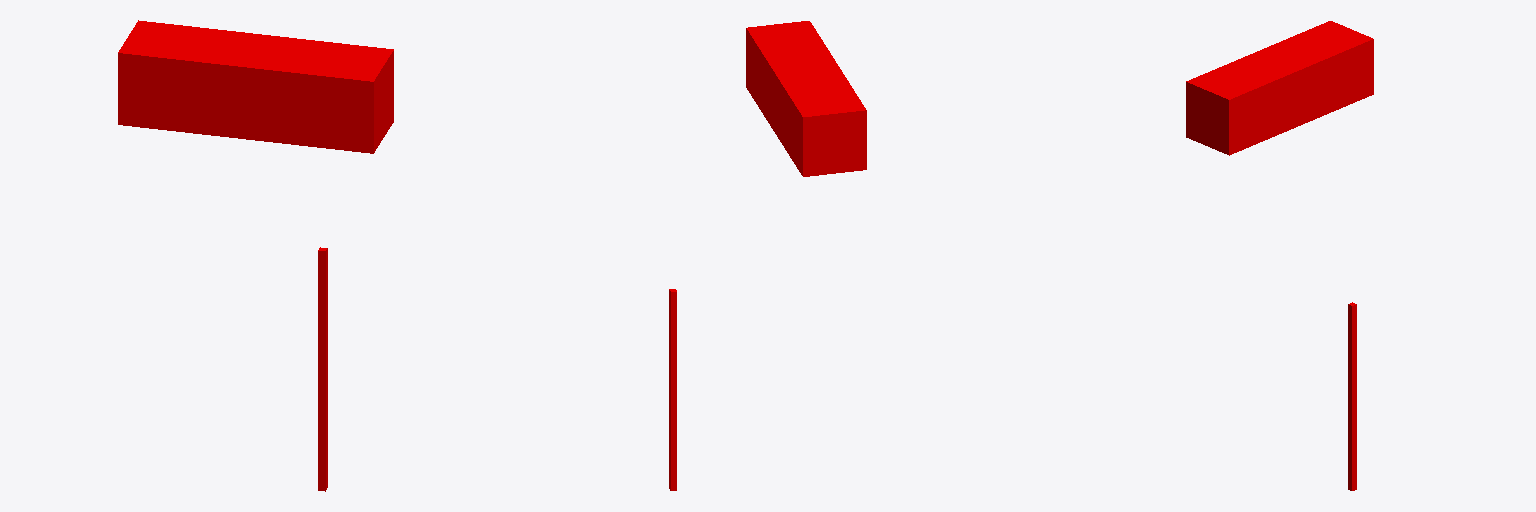
URDF robot description (panda):
<?xml version="1.0" ?>
<!-- =================================================================================== -->
<!-- |    This document was autogenerated by xacro from panda_arm_hand.urdf.xacro      | -->
<!-- |    EDITING THIS FILE BY HAND IS NOT RECOMMENDED                                 | -->
<!-- =================================================================================== -->
<robot name="panda"
  xmlns:xacro="http://www.ros.org/wiki/xacro">
  <link name="panda_link0">
    <inertial>
      <origin rpy="0 0 0" xyz="0 0 0.05"/>
      <mass value="2.9"/>
      <inertia ixx="0.1" ixy="0" ixz="0" iyy="0.1" iyz="0" izz="0.1"/>
    </inertial>
    <visual>
      <geometry>
        <mesh filename="package://meshes/collision/link0.obj"/>
      </geometry>
      <material name="panda_white">
        <color rgba="1. 1. 1. 1."/>
      </material>
    </visual>
    <collision>
      <geometry>
        <mesh filename="package://meshes/collision/link0.obj"/>
      </geometry>
      <material name="panda_white"/>
    </collision>
  </link>
  <link name="panda_link1">
    <inertial>
      <origin rpy="0 0 0" xyz="0 -0.04 -0.05"/>
      <mass value="2.7"/>
      <inertia ixx="0.1" ixy="0" ixz="0" iyy="0.1" iyz="0" izz="0.1"/>
    </inertial>
    <visual>
      <geometry>
        <mesh filename="package://meshes/visual/link1.obj"/>
      </geometry>
      <material name="panda_white"/>
    </visual>
    <collision>
      <geometry>
        <mesh filename="package://meshes/collision/link1.obj"/>
      </geometry>
      <material name="panda_white"/>
    </collision>
  </link>
  <joint name="panda_joint1" type="revolute">
    <safety_controller k_position="100.0" k_velocity="40.0" soft_lower_limit="-2.8973" soft_upper_limit="2.8973"/>
    <origin rpy="0 0 0" xyz="0 0 0.333"/>
    <parent link="panda_link0"/>
    <child link="panda_link1"/>
    <axis xyz="0 0 1"/>
    <limit effort="87" lower="-2.9671" upper="2.9671" velocity="2.1750"/>
  </joint>
  <link name="panda_link2">
    <inertial>
      <origin rpy="0 0 0" xyz="0 -0.04 0.06"/>
      <mass value="2.73"/>
      <inertia ixx="0.1" ixy="0" ixz="0" iyy="0.1" iyz="0" izz="0.1"/>
    </inertial>
    <visual>
      <geometry>
        <mesh filename="package://meshes/visual/link2.obj"/>
      </geometry>
      <material name="panda_white"/>
    </visual>
    <collision>
      <geometry>
        <mesh filename="package://meshes/collision/link2.obj"/>
      </geometry>
      <material name="panda_white"/>
    </collision>
  </link>
  <joint name="panda_joint2" type="revolute">
    <safety_controller k_position="100.0" k_velocity="40.0" soft_lower_limit="-1.7628" soft_upper_limit="1.7628"/>
    <origin rpy="-1.57079632679 0 0" xyz="0 0 0"/>
    <parent link="panda_link1"/>
    <child link="panda_link2"/>
    <axis xyz="0 0 1"/>
    <limit effort="87" lower="-1.8326" upper="1.8326" velocity="2.1750"/>
  </joint>
  <link name="panda_link3">
    <inertial>
      <origin rpy="0 0 0" xyz="0.01 0.01 -0.05"/>
      <mass value="2.04"/>
      <inertia ixx="0.1" ixy="0" ixz="0" iyy="0.1" iyz="0" izz="0.1"/>
    </inertial>
    <visual>
      <geometry>
        <mesh filename="package://meshes/visual/link3.obj"/>
      </geometry>
      <material name="panda_red">
        <color rgba="1. 1. 1. 1."/>
      </material>
    </visual>
    <collision>
      <geometry>
        <mesh filename="package://meshes/collision/link3.obj"/>
      </geometry>
    </collision>
  </link>
  <joint name="panda_joint3" type="revolute">
    <safety_controller k_position="100.0" k_velocity="40.0" soft_lower_limit="-2.8973" soft_upper_limit="2.8973"/>
    <origin rpy="1.57079632679 0 0" xyz="0 -0.316 0"/>
    <parent link="panda_link2"/>
    <child link="panda_link3"/>
    <axis xyz="0 0 1"/>
    <limit effort="87" lower="-2.9671" upper="2.9671" velocity="2.1750"/>
  </joint>
  <link name="panda_link4">
    <inertial>
      <origin rpy="0 0 0" xyz="-0.03 0.03 0.02"/>
      <mass value="2.08"/>
      <inertia ixx="0.1" ixy="0" ixz="0" iyy="0.1" iyz="0" izz="0.1"/>
    </inertial>
    <visual>
      <geometry>
        <mesh filename="package://meshes/visual/link4.obj"/>
      </geometry>
      <material name="panda_white"/>
    </visual>
    <collision>
      <geometry>
        <mesh filename="package://meshes/collision/link4.obj"/>
      </geometry>
      <material name="panda_white"/>
    </collision>
  </link>
  <joint name="panda_joint4" type="revolute">
    <safety_controller k_position="100.0" k_velocity="40.0" soft_lower_limit="-3.0718" soft_upper_limit="-0.0698"/>
    <origin rpy="1.57079632679 0 0" xyz="0.0825 0 0"/>
    <parent link="panda_link3"/>
    <child link="panda_link4"/>
    <axis xyz="0 0 1"/>
    <limit effort="87" lower="-3.1416" upper="0.0" velocity="2.1750"/>
  </joint>
  <link name="panda_link5">
    <inertial>
      <origin rpy="0 0 0" xyz="0 0.04 -0.12"/>
      <mass value="3"/>
      <inertia ixx="0.1" ixy="0" ixz="0" iyy="0.1" iyz="0" izz="0.1"/>
    </inertial>
    <visual>
      <geometry>
        <mesh filename="package://meshes/visual/link5.obj"/>
      </geometry>
      <material name="panda_white"/>
    </visual>
    <collision>
      <geometry>
        <mesh filename="package://meshes/collision/link5.obj"/>
      </geometry>
      <material name="panda_white"/>
    </collision>
  </link>
  <joint name="panda_joint5" type="revolute">
    <safety_controller k_position="100.0" k_velocity="40.0" soft_lower_limit="-2.8973" soft_upper_limit="2.8973"/>
    <origin rpy="-1.57079632679 0 0" xyz="-0.0825 0.384 0"/>
    <parent link="panda_link4"/>
    <child link="panda_link5"/>
    <axis xyz="0 0 1"/>
    <limit effort="12" lower="-2.9671" upper="2.9671" velocity="2.6100"/>
  </joint>
  <link name="panda_link6">
    <inertial>
      <origin rpy="0 0 0" xyz="0.04 0 0"/>
      <mass value="1.3"/>
      <inertia ixx="0.1" ixy="0" ixz="0" iyy="0.1" iyz="0" izz="0.1"/>
    </inertial>
    <visual>
      <geometry>
        <mesh filename="package://meshes/visual/link6.obj"/>
      </geometry>
      <material name="panda_white"/>
    </visual>
    <collision>
      <geometry>
        <mesh filename="package://meshes/collision/link6.obj"/>
      </geometry>
      <material name="panda_white"/>
    </collision>
  </link>
  <joint name="panda_joint6" type="revolute">
    <safety_controller k_position="100.0" k_velocity="40.0" soft_lower_limit="-0.0175" soft_upper_limit="3.7525"/>
    <origin rpy="1.57079632679 0 0" xyz="0 0 0"/>
    <parent link="panda_link5"/>
    <child link="panda_link6"/>
    <axis xyz="0 0 1"/>
    <limit effort="12" lower="-0.0873" upper="3.8223" velocity="2.6100"/>
  </joint>
  <link name="panda_link7">
    <inertial>
      <origin rpy="0 0 0" xyz="0 0 0.08"/>
      <mass value=".2"/>
      <inertia ixx="0.1" ixy="0" ixz="0" iyy="0.1" iyz="0" izz="0.1"/>
    </inertial>
    <visual>
      <geometry>
        <mesh filename="package://meshes/collision/link7.obj"/>
      </geometry>
      <material name="panda_white"/>
    </visual>
    <collision>
      <geometry>
        <mesh filename="package://meshes/collision/link7.obj"/>
      </geometry>
      <material name="panda_white"/>
    </collision>
  </link>
  <joint name="panda_joint7" type="revolute">
    <safety_controller k_position="100.0" k_velocity="40.0" soft_lower_limit="-2.8973" soft_upper_limit="2.8973"/>
    <origin rpy="1.57079632679 0 0" xyz="0.088 0 0"/>
    <parent link="panda_link6"/>
    <child link="panda_link7"/>
    <axis xyz="0 0 1"/>
    <limit effort="12" lower="-2.9671" upper="2.9671" velocity="2.6100"/>
  </joint>
  <link name="panda_link8">
    <inertial>
      <origin rpy="0 0 0" xyz="0 0 0"/>
      <mass value="0.0"/>
      <inertia ixx="0.1" ixy="0" ixz="0" iyy="0.1" iyz="0" izz="0.1"/>
    </inertial>
  </link>
  <joint name="panda_joint8" type="fixed">
    <origin rpy="0 0 0" xyz="0 0 0.107"/>
    <parent link="panda_link7"/>
    <child link="panda_link8"/>
    <axis xyz="0 0 0"/>
  </joint>
  <joint name="panda_hand_joint" type="fixed">
    <parent link="panda_link8"/>
    <child link="panda_hand"/>
    <origin rpy="0 0 -0.785398163397" xyz="0 0 0"/>
  </joint>
  <link name="panda_hand">
    <inertial>
      <origin rpy="0 0 0" xyz="0 0 0.04"/>
      <mass value=".81"/>
      <inertia ixx="0.1" ixy="0" ixz="0" iyy="0.1" iyz="0" izz="0.1"/>
    </inertial>
    <visual>
      <geometry>
        <mesh filename="package://meshes/visual/hand.obj"/>
      </geometry>
      <material name="panda_white"/>
    </visual>
    <collision>
      <geometry>
        <mesh filename="package://meshes/collision/hand.obj"/>
      </geometry>
      <material name="panda_white"/>
    </collision>
  </link>

  <link name="cam">
    <contact>
      <friction_anchor/>
      <stiffness value="30000.0"/>
      <damping value="1000.0"/>
      <spinning_friction value="0.1"/>
      <lateral_friction value="1.0"/>
    </contact>
    <inertial>
      <origin rpy="0 0 0" xyz="0 0 0"/>
      <mass value="0.1"/>
      <inertia ixx="0.1" ixy="0" ixz="0" iyy="0.1" iyz="0" izz="0.1"/>
    </inertial>
    <visual>
      <origin rpy="0 0 0" xyz="-0.06 0 -0.035"/>
      <geometry>
        <box size="0.03 0.1 0.03"/>
      </geometry>
      <material name="stick_red">
        <color rgba="1 0.0 0.0 1"/>
      </material>
    </visual>
    <collision>
      <origin rpy="0 0 0" xyz="-0.06 0 -0.035"/>
      <geometry>
        <box size="0.03 0.1 0.03"/>
      </geometry>
    </collision>
  </link>
  <joint name="cam_joint" type="fixed">
    <parent link="panda_hand"/>
    <child link="cam"/>
    <origin rpy="0 0 0" xyz="0 -0.005 0.05"/>
  </joint>

  <link name="panda_leftfinger">
    <contact>
      <friction_anchor/>
      <stiffness value="30000.0"/>
      <damping value="1000.0"/>
      <spinning_friction value="0.1"/>
      <lateral_friction value="1.0"/>
    </contact>
    <inertial>
      <origin rpy="0 0 0" xyz="0 0.01 0.02"/>
      <mass value="0.1"/>
      <inertia ixx="0.1" ixy="0" ixz="0" iyy="0.1" iyz="0" izz="0.1"/>
    </inertial>
    <visual>
      <geometry>
        <mesh filename="package://meshes/visual/finger.obj"/>
      </geometry>
      <material name="panda_white"/>
    </visual>
    <collision>
      <geometry>
        <mesh filename="package://meshes/collision/finger.obj"/>
      </geometry>
      <material name="panda_white"/>
    </collision>
  </link>
  <link name="panda_rightfinger">
    <contact>
      <friction_anchor/>
      <stiffness value="30000.0"/>
      <damping value="1000.0"/>
      <spinning_friction value="0.1"/>
      <lateral_friction value="1.0"/>
    </contact>
    <inertial>
      <origin rpy="0 0 0" xyz="0 -0.01 0.02"/>
      <mass value="0.1"/>
      <inertia ixx="0.1" ixy="0" ixz="0" iyy="0.1" iyz="0" izz="0.1"/>
    </inertial>
    <visual>
      <origin rpy="0 0 3.14159265359" xyz="0 0 0"/>
      <geometry>
        <mesh filename="package://meshes/visual/finger.obj"/>
      </geometry>
      <material name="panda_white"/>
    </visual>
    <collision>
      <origin rpy="0 0 3.14159265359" xyz="0 0 0"/>
      <geometry>
        <mesh filename="package://meshes/collision/finger.obj"/>
      </geometry>
      <material name="panda_white"/>
    </collision>
  </link>

  <link name="stick">
    <contact>
      <friction_anchor/>
      <stiffness value="30000.0"/>
      <damping value="1000.0"/>
      <spinning_friction value="0.1"/>
      <lateral_friction value="1.0"/>
    </contact>
    <inertial>
      <origin rpy="0 0 0" xyz="0 0 0"/>
      <mass value="0.1"/>
      <inertia ixx="0.1" ixy="0" ixz="0" iyy="0.1" iyz="0" izz="0.1"/>
    </inertial>
    <visual>
      <origin rpy="0 0 0" xyz="0 0 0.05"/>
      <geometry>
        <box size="0.003 0.003 0.10"/>
      </geometry>
      <material name="stick_red">
        <color rgba="1 0.0 0.0 1"/>
      </material>
    </visual>
    <collision>
      <origin rpy="0 0 0" xyz="0 0 0.05"/>
      <geometry>
        <box size="0.003 0.003 0.10"/>
      </geometry>
    </collision>
  </link>
  <joint name="stick_finger_joint" type="fixed">
    <parent link="panda_leftfinger"/>
    <child link="stick"/>
    <origin rpy="0 0 0" xyz="0 0.005 0.05"/>
  </joint>

  <link name="sticktarget">
    <inertial>
      <origin rpy="0 0 0" xyz="0 0 0"/>
      <mass value="0.0"/>
      <inertia ixx="0.1" ixy="0" ixz="0" iyy="0.1" iyz="0" izz="0.1"/>
    </inertial>
  </link>
  <joint name="sticktarget_hand" type="fixed">
    <parent link="stick"/>
    <child link="sticktarget"/>
    <origin rpy="0 0 0" xyz="0 0 0.10"/>
  </joint>

  <joint name="panda_finger_joint1" type="prismatic">
    <parent link="panda_hand"/>
    <child link="panda_leftfinger"/>
    <origin rpy="0 0 0" xyz="0 0 0.0584"/>
    <axis xyz="0 1 0"/>
    <limit effort="20" lower="0.0" upper="0.04" velocity="0.2"/>
  </joint>
  <joint name="panda_finger_joint2" type="prismatic">
    <parent link="panda_hand"/>
    <child link="panda_rightfinger"/>
    <origin rpy="0 0 0" xyz="0 0 0.0584"/>
    <axis xyz="0 -1 0"/>
    <limit effort="20" lower="0.0" upper="0.04" velocity="0.2"/>
    <mimic joint="panda_finger_joint1"/>
  </joint>
  <link name="panda_grasptarget">
    <inertial>
      <origin rpy="0 0 0" xyz="0 0 0"/>
      <mass value="0.0"/>
      <inertia ixx="0.1" ixy="0" ixz="0" iyy="0.1" iyz="0" izz="0.1"/>
    </inertial>
  </link>
  <joint name="panda_grasptarget_hand" type="fixed">
    <parent link="panda_hand"/>
    <child link="panda_grasptarget"/>
    <origin rpy="0 0 0" xyz="0 0 0.105"/>
  </joint>

</robot>

--- Facts derived from the render (not from the file) ---
Views: 3 orthographic renders of the robot side by side, from view 1: azimuth 30°, elevation 25°; view 2: azimuth 150°, elevation 25°; view 3: azimuth 270°, elevation 25°.
Model panda with 16 links and 15 joints (7 revolute, 2 prismatic, 6 fixed), rooted at panda_link0, posed all joints at 0.
Visible links, largest first — view 1: cam, stick; view 2: cam, stick; view 3: cam, stick.
Link boxes in pixels (left/top/right/bottom): cam: left=118, top=20, right=393, bottom=153; stick: left=318, top=247, right=327, bottom=491; cam: left=746, top=21, right=866, bottom=176; stick: left=669, top=289, right=676, bottom=490; cam: left=1186, top=21, right=1373, bottom=155; stick: left=1348, top=302, right=1356, bottom=490.
Size in the robot's own frame: 0.0976 by 0.0919 by 0.2084 metres.
0 mesh visuals loaded from 10 distinct referenced files (none loaded); not drawn: 11 (reference not matched to a file when rendering).